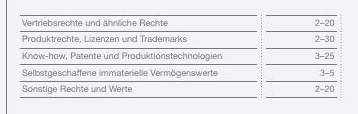table: (0, 0, 358, 114)
